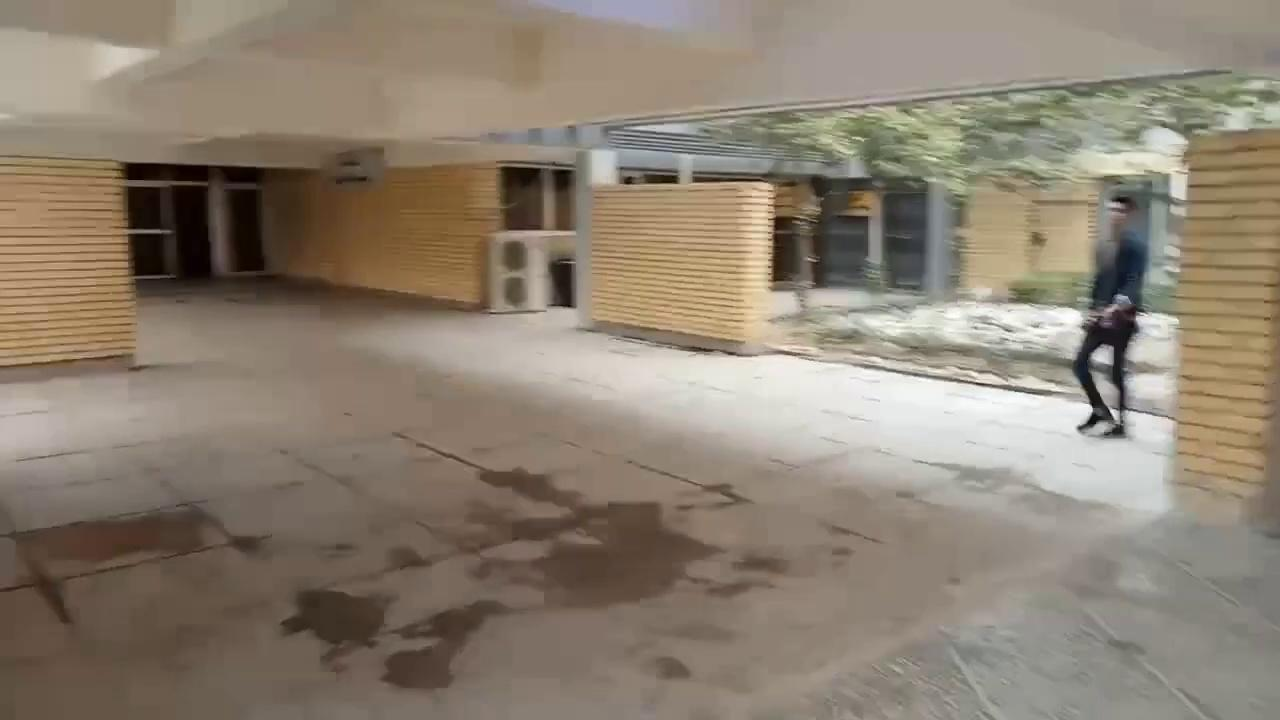person: (1071, 195, 1148, 437)
tree: (697, 68, 1277, 302)
